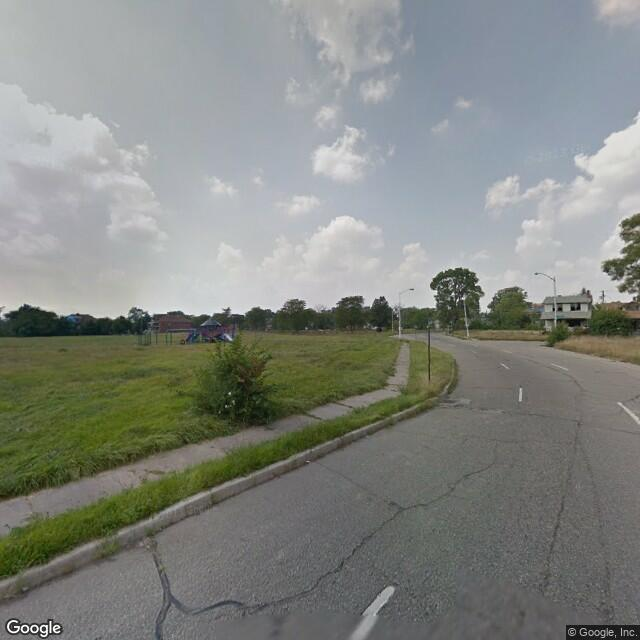litter: (220, 404, 233, 412), (299, 458, 313, 465), (223, 392, 233, 398)
